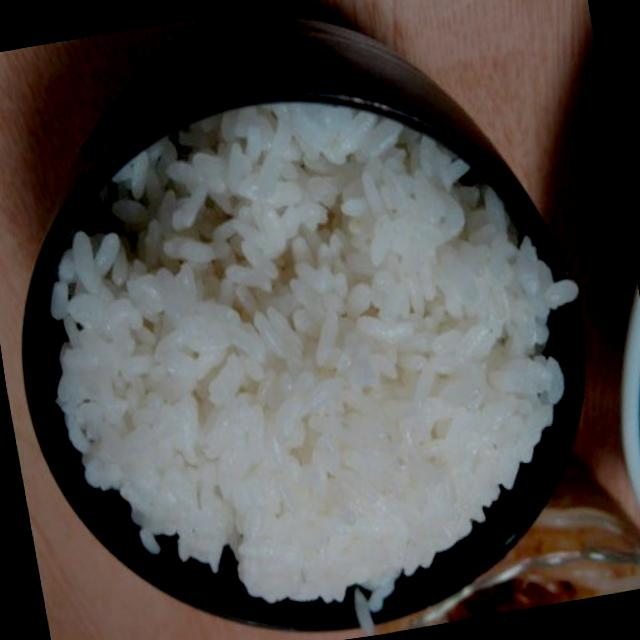Rice: (31, 90, 594, 628)
